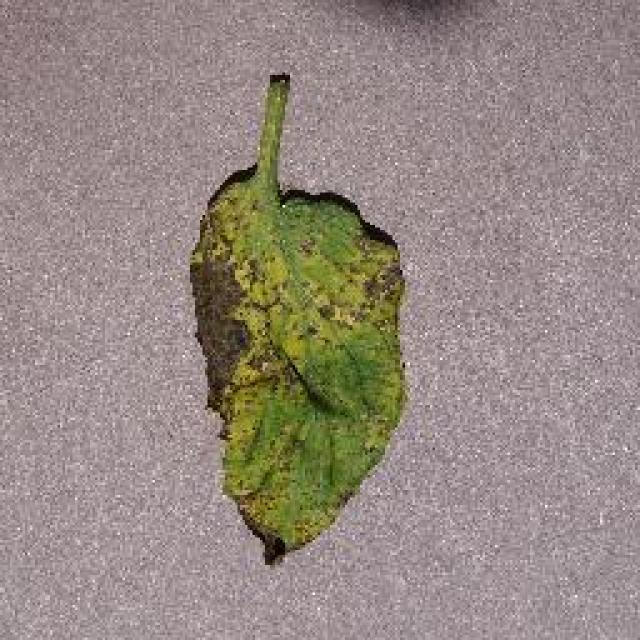Tomato___Septoria_leaf_spot: (190, 75, 402, 562)
